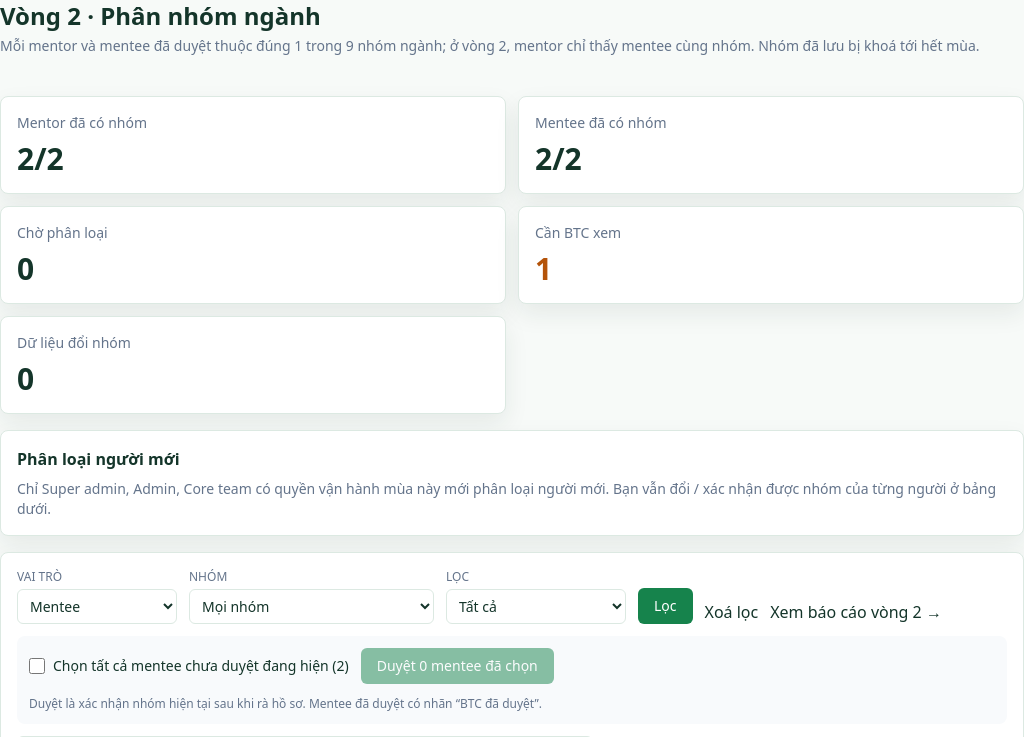
Test case: nút duyệt mentee hàng loạt (BTC 13/10/2026) › thanh duyệt trên trang theo ô 'Vai trò' › chọn tất cả rồi mở hộp xác nhận: người còn cờ 'Cần BTC xem' được cảnh báo và đánh dấu đúng người
The image size is (1024, 737).
Click the checkbox labelled "Chọn tất cả mentee chưa duyệt đang hiện (2)" at [37, 666], box x1=29 y1=658 x2=45 y2=674
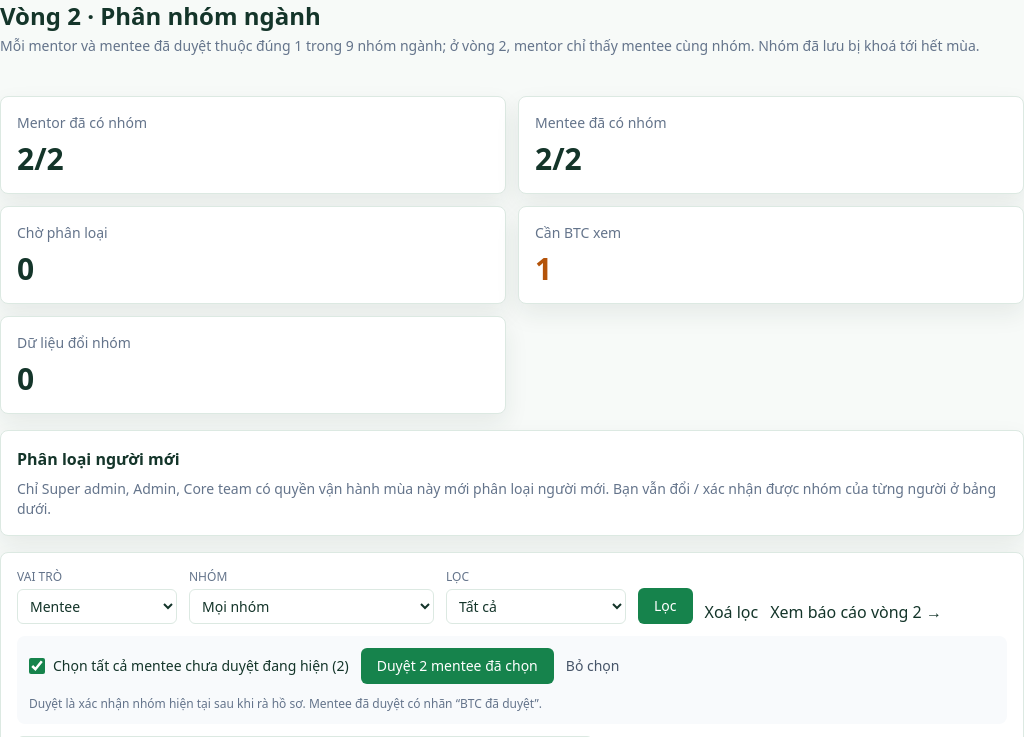
Click the button "Duyệt 2 mentee đã chọn" at [457, 666], box x1=361 y1=648 x2=554 y2=684
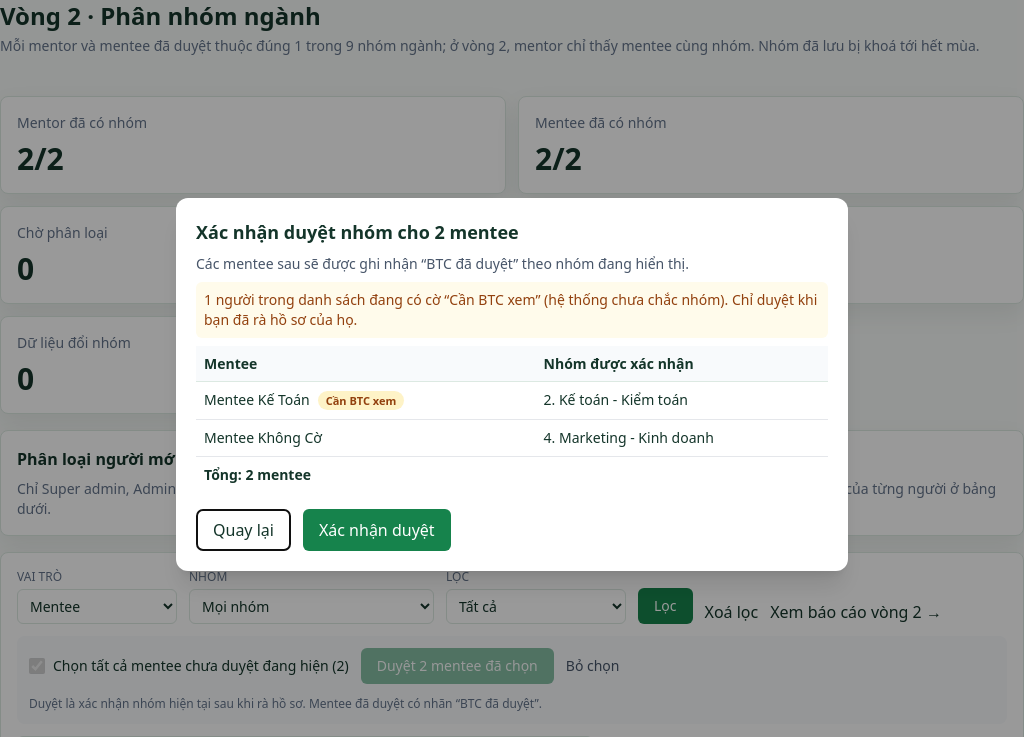
expect the text with test id "bulk-flagged-warning" shows "1 người trong danh sách đang có cờ": met, box x1=196 y1=282 x2=828 y2=338
expect the text "Cần BTC xem" is shown once: met, box x1=318 y1=390 x2=404 y2=410
